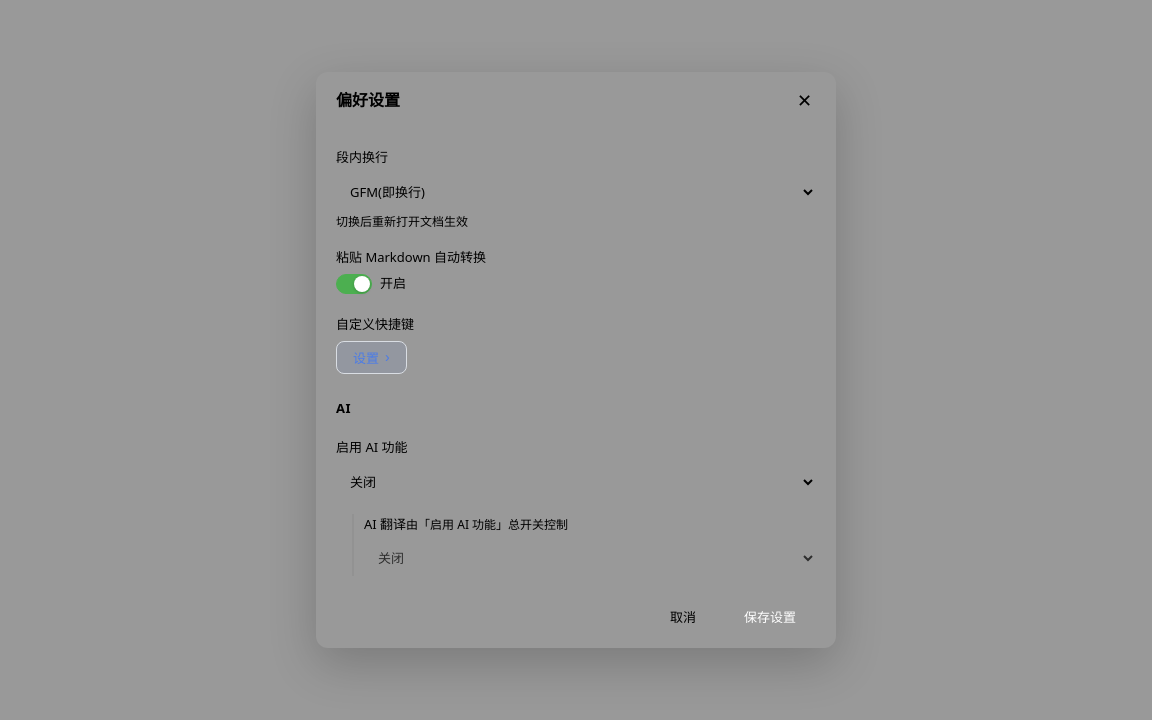
Test: v0.9.0 A1：设置弹窗内的自定义快捷键入口 › 入口存在且是「编辑器」分区的最后一个字段，点击后打开快捷键弹窗
The image size is (1152, 720).
(page scrolled)
What coordinates should you click on to do the following:
click the button with test id "shortcuts-entry"
I would click on:
 (371, 357)
Its box is [336,341,407,374].
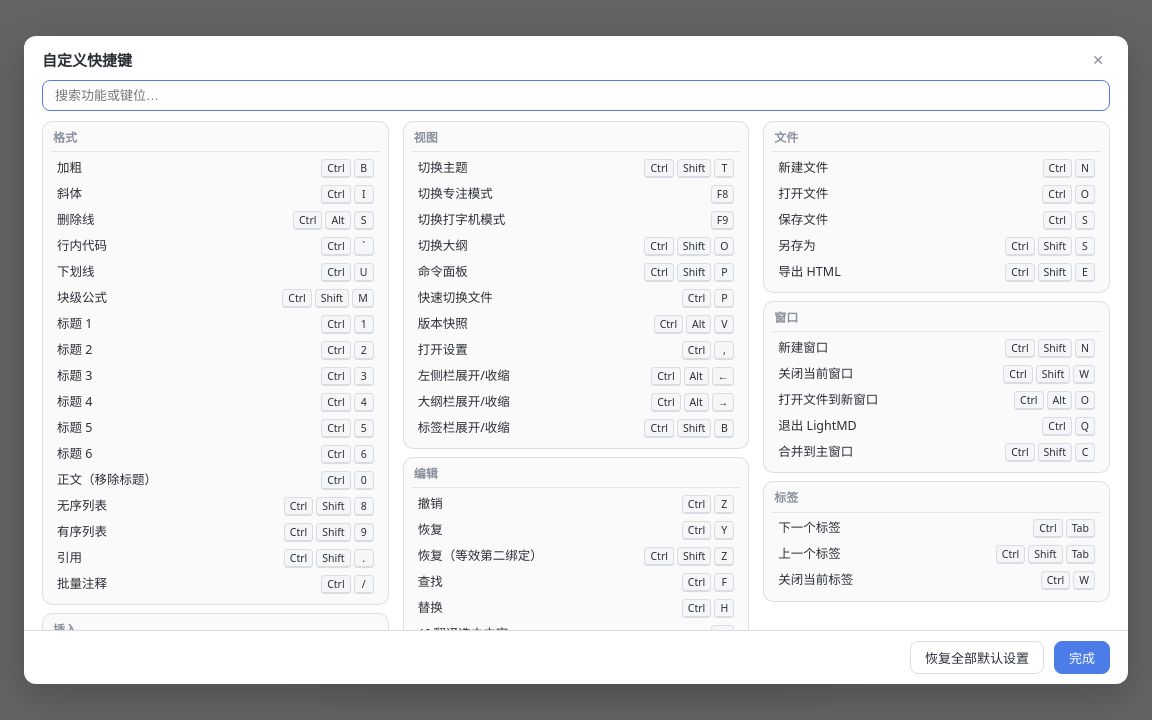
Check: the dialog with class "shortcut-settings-dialog" is shown
Check: the field with class "shortcut-settings-search" is shown, box [42,80,1110,111]
